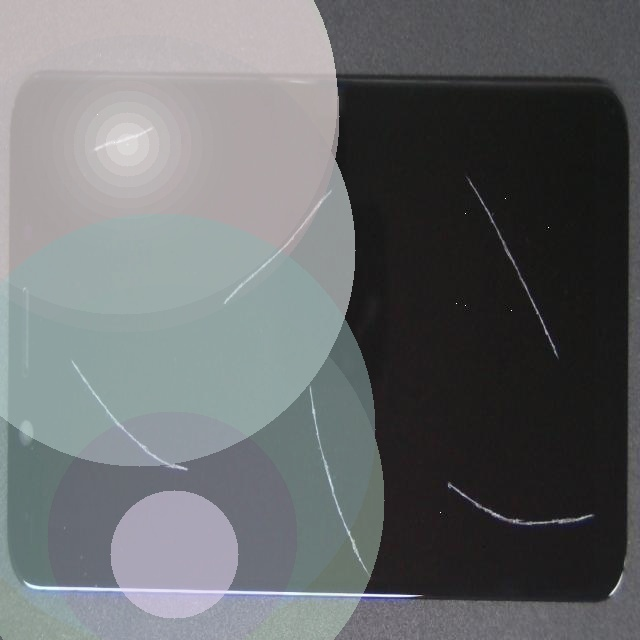scratch: (176, 0, 640, 372), (267, 248, 640, 640), (38, 56, 126, 239)
